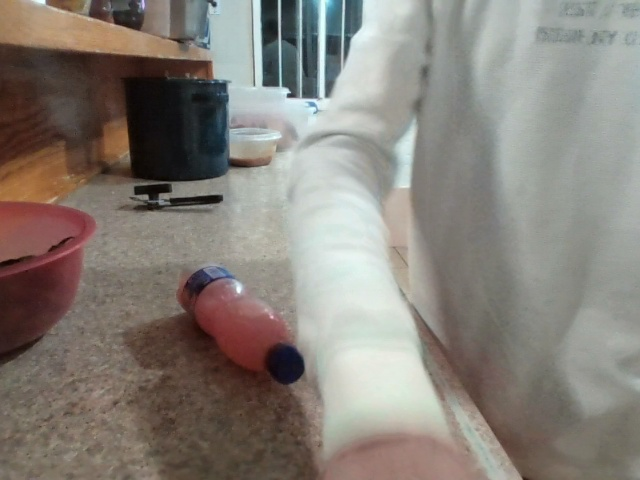botella: (158, 250, 326, 411)
